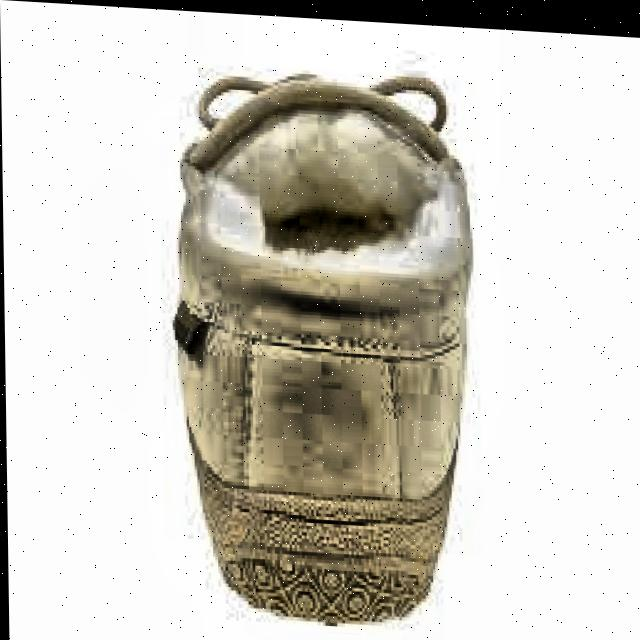shoes: (159, 63, 497, 633)
